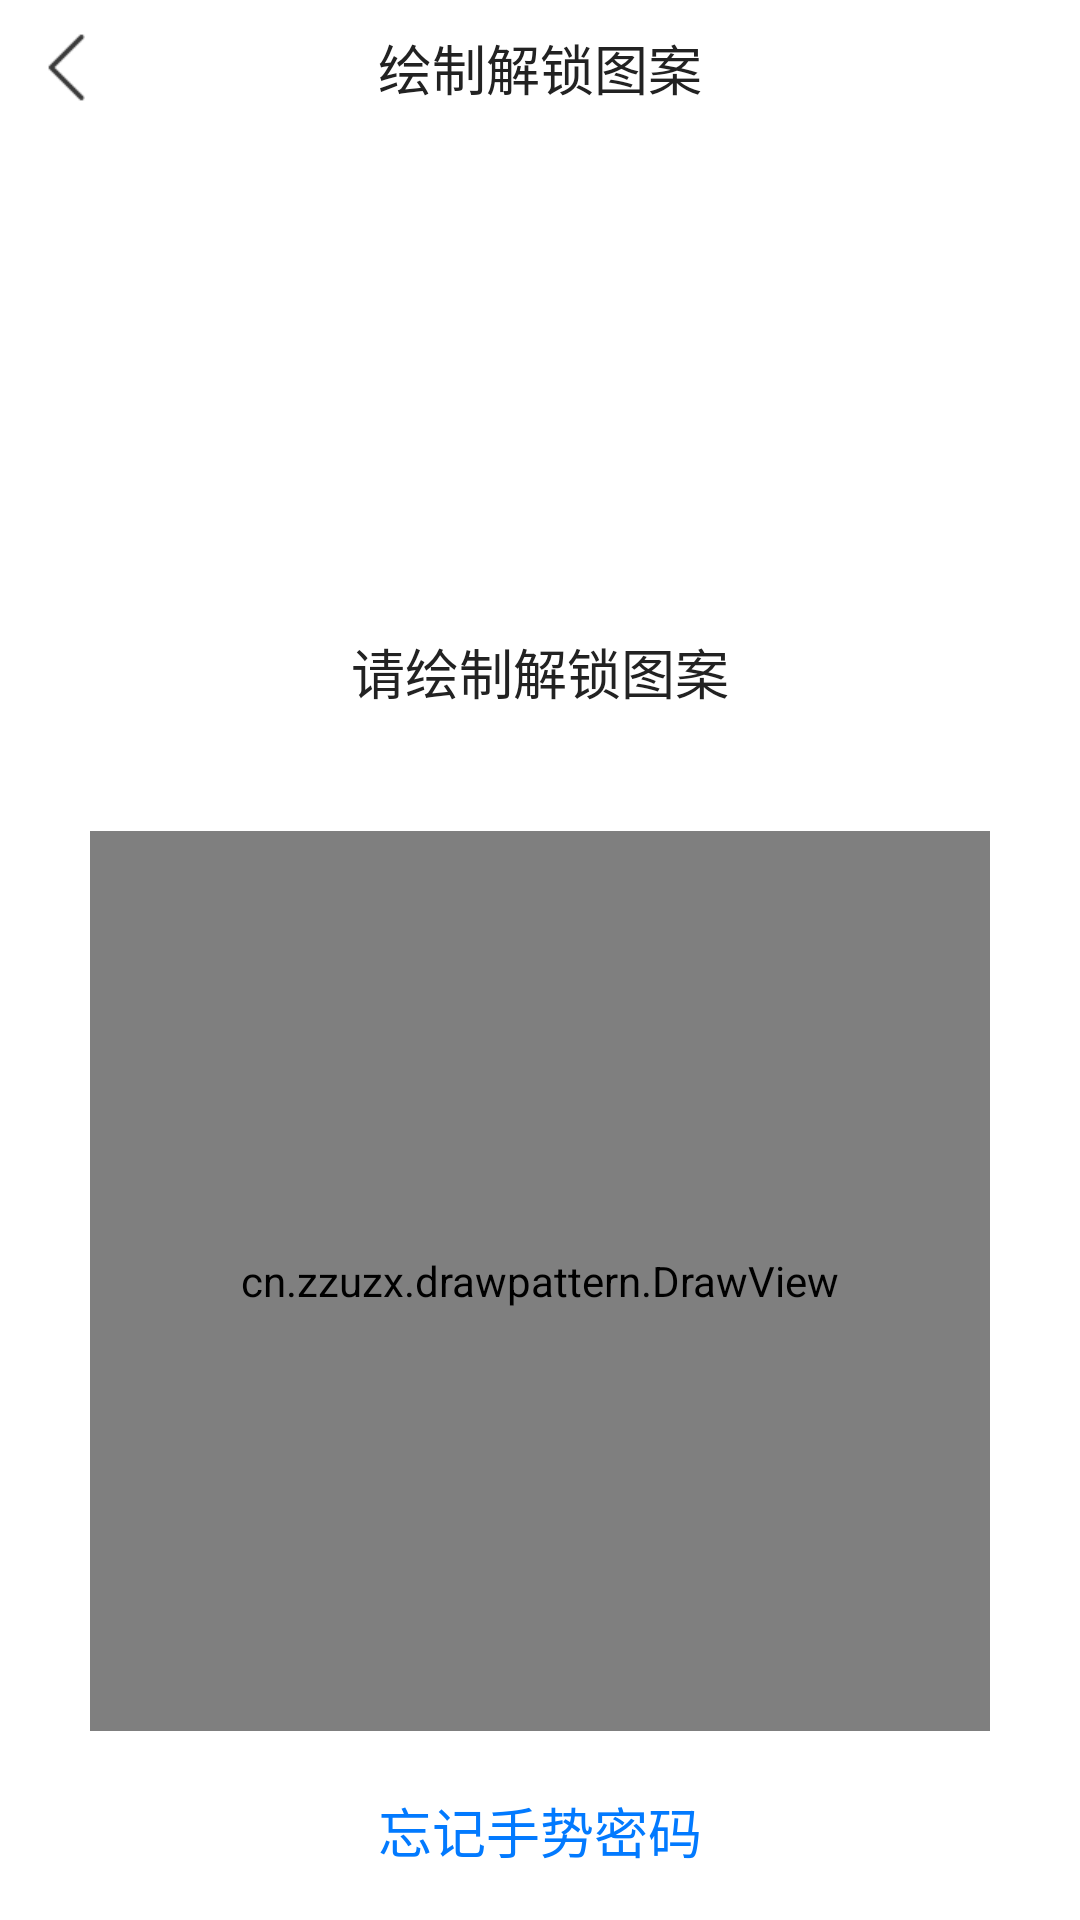

Screen size 1080×1920. Icon name, then its box in pixels as box=[x1, y1, x2, y2]:
back: box=[48, 34, 85, 101]
